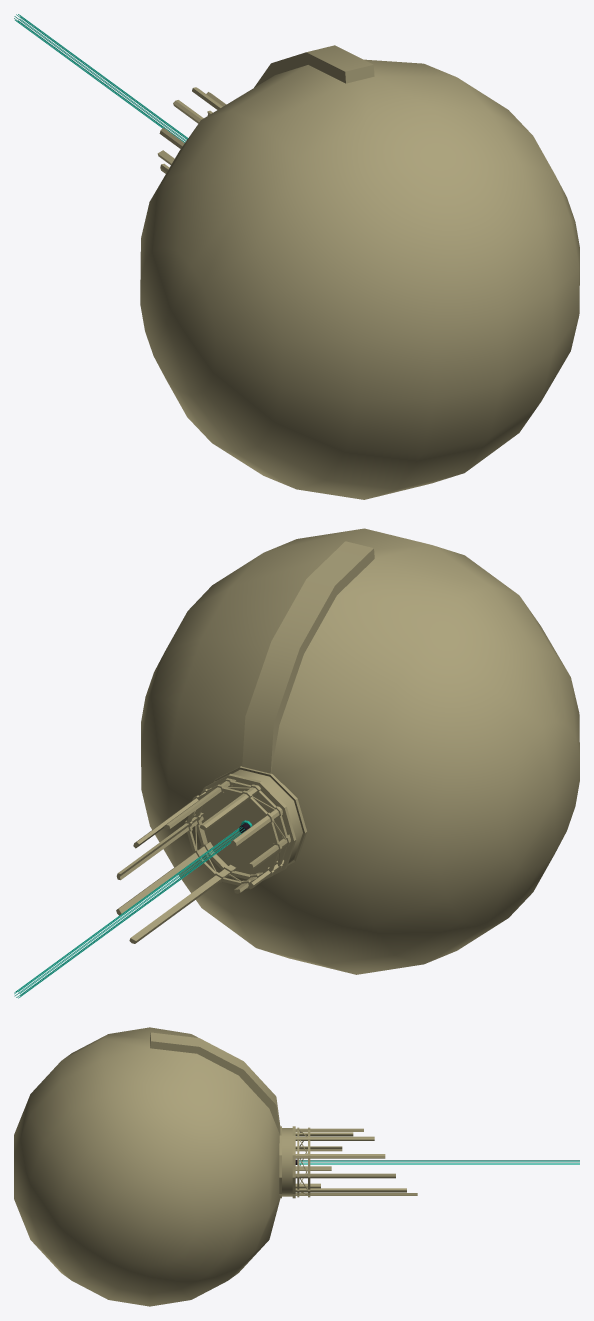
The model's file is OBJ_Arc_triomphe_Big_antenne01.fbx.
The picture shows the model from 3 angles, top to bottom: view 1: azimuth 30°, elevation 25°; view 2: azimuth 150°, elevation 25°; view 3: azimuth 270°, elevation 25°; orthographic projection. The views are drawn at different scales.
Parts seen in each view (by area): view 1: Object016; view 2: Object016; view 3: Object016.
Boxes of the visible parts, x1,y1,x2,y2 form: Object016: (14,14,579,499); Object016: (14,528,579,998); Object016: (14,1027,579,1306).
Size of the model in its own units: 1544 by 1552 by 3118.
